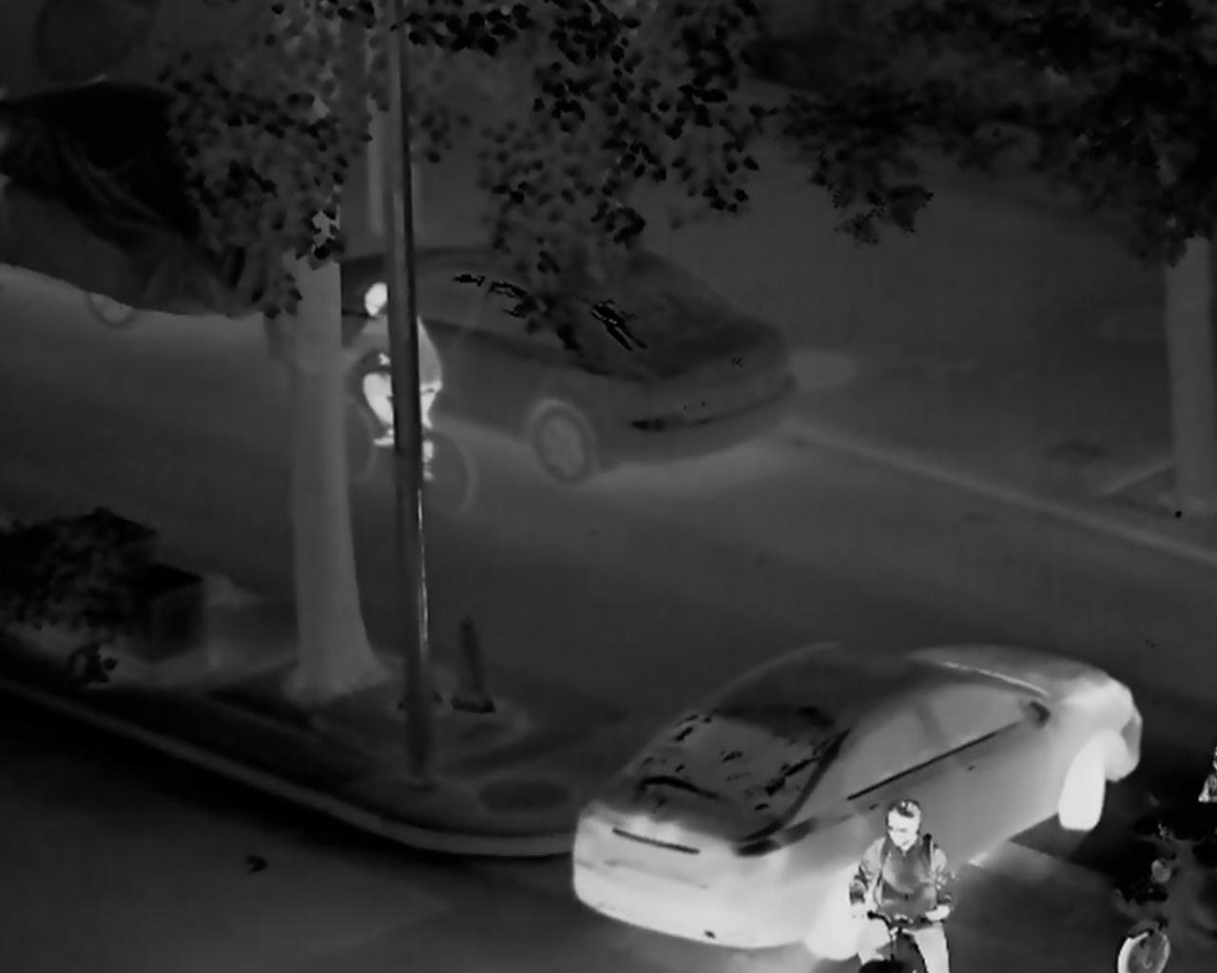person: (337, 285, 442, 482), (848, 800, 958, 973)
